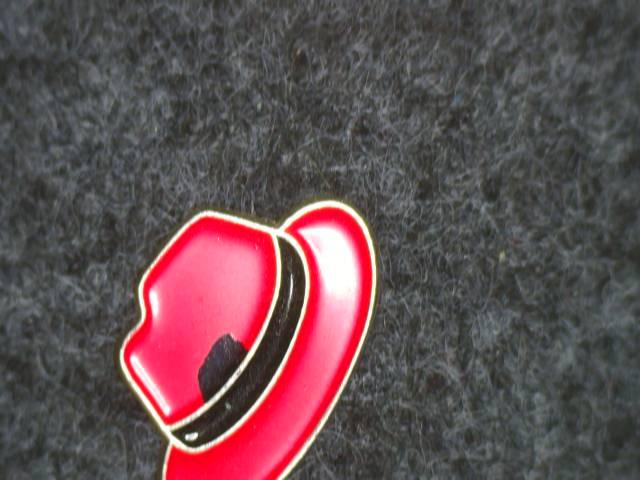Red-Hat: (97, 182, 396, 480)
Scratch: (187, 322, 267, 405)
